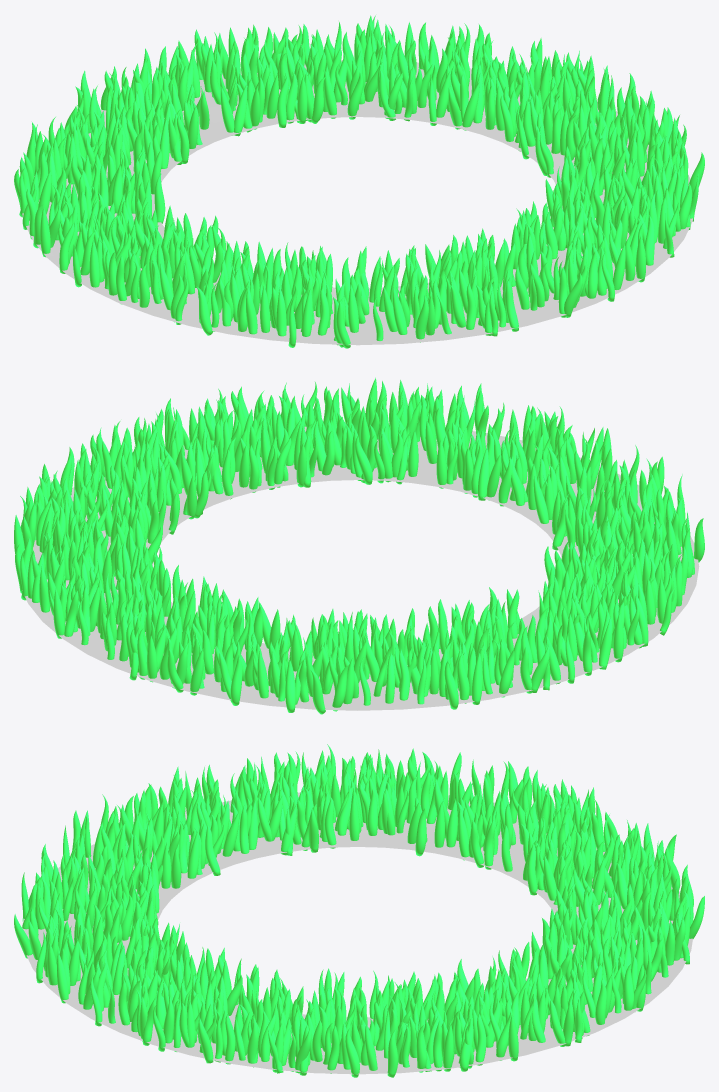
The model's file is circular_grass.fbx.
3 views of the same model, one above another, from view 1: azimuth 30°, elevation 25°; view 2: azimuth 150°, elevation 25°; view 3: azimuth 270°, elevation 25° (orthographic).
Parts seen in each view (by area): view 1: grass_circular; view 2: grass_circular; view 3: grass_circular.
Part boxes in pixels (x1=…): grass_circular: x1=22, y1=60, x2=692, y2=345; grass_circular: x1=22, y1=423, x2=699, y2=710; grass_circular: x1=22, y1=791, x2=692, y2=1074.
Bounding box in the file's own units: 2.54 × 0.2068 × 2.57.
